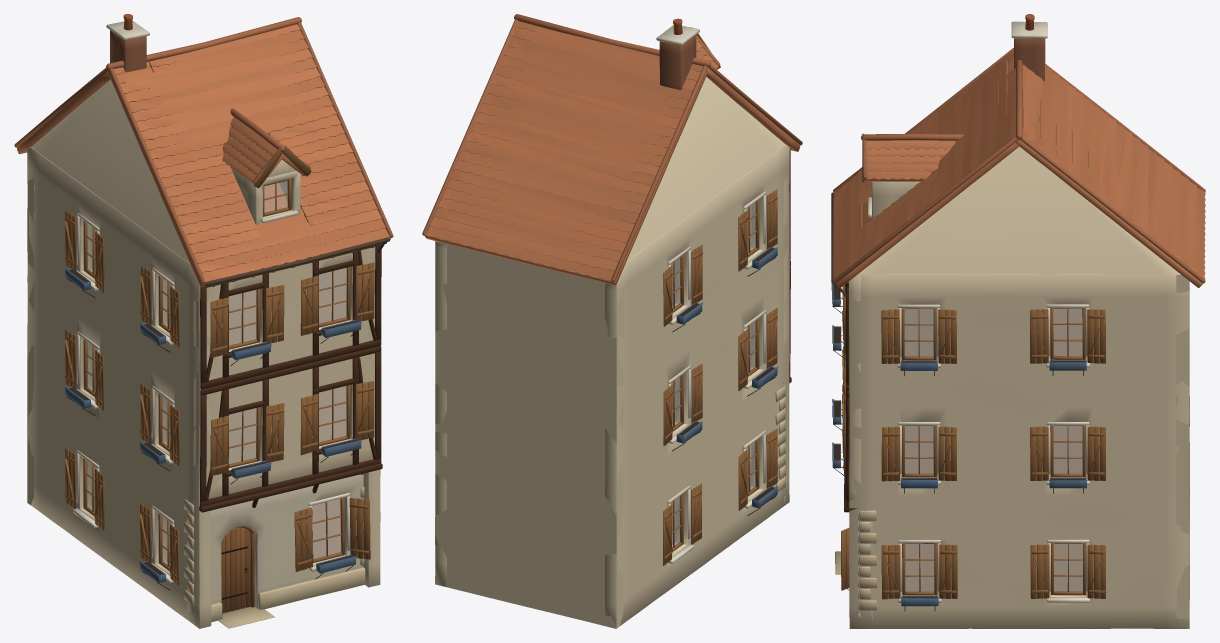
Rendered from GateStreet_BehindOuter1.glb.
3 renders of one model, left to right at view 1: azimuth 30°, elevation 25°; view 2: azimuth 150°, elevation 25°; view 3: azimuth 270°, elevation 25°, orthographic.
Visible parts, largest first — view 1: Sammel Putz, Sammel Stein, Sammel Holz, Glas, Sammel Quader, Sammel Putz innen, Sammel Lack, Sammel Metall, Sammel Ziegel; view 2: Sammel Putz, Sammel Stein, Sammel Holz, Glas, Sammel Ziegel, Sammel Lack, Sammel Putz innen; view 3: Sammel Putz, Sammel Stein, Sammel Holz, Sammel Putz innen, Glas, Sammel Lack, Sammel Ziegel.
Part boxes in pixels (x1,y1,x2,y2): Sammel Putz: (27, 14, 380, 628); Sammel Stein: (14, 17, 393, 628); Sammel Holz: (65, 145, 386, 613); Glas: (87, 181, 346, 564); Sammel Quader: (187, 474, 363, 614); Sammel Putz innen: (91, 227, 346, 562); Sammel Lack: (65, 268, 361, 582); Sammel Metall: (67, 237, 390, 599); Sammel Ziegel: (110, 30, 146, 72); Sammel Putz: (435, 18, 789, 628); Sammel Stein: (422, 14, 802, 504); Sammel Holz: (663, 33, 791, 565); Glas: (670, 202, 755, 546); Sammel Ziegel: (659, 35, 696, 89); Sammel Lack: (676, 247, 778, 508); Sammel Putz innen: (670, 205, 751, 544); Sammel Putz: (833, 14, 1189, 628); Sammel Stein: (833, 47, 1205, 616); Sammel Holz: (835, 133, 1105, 599); Sammel Putz innen: (904, 308, 1082, 591); Glas: (905, 308, 1082, 591); Sammel Lack: (831, 283, 1087, 606); Sammel Ziegel: (1014, 38, 1045, 81).
Bounding box in the file's own units: 5.84 × 14.33 × 9.08.
